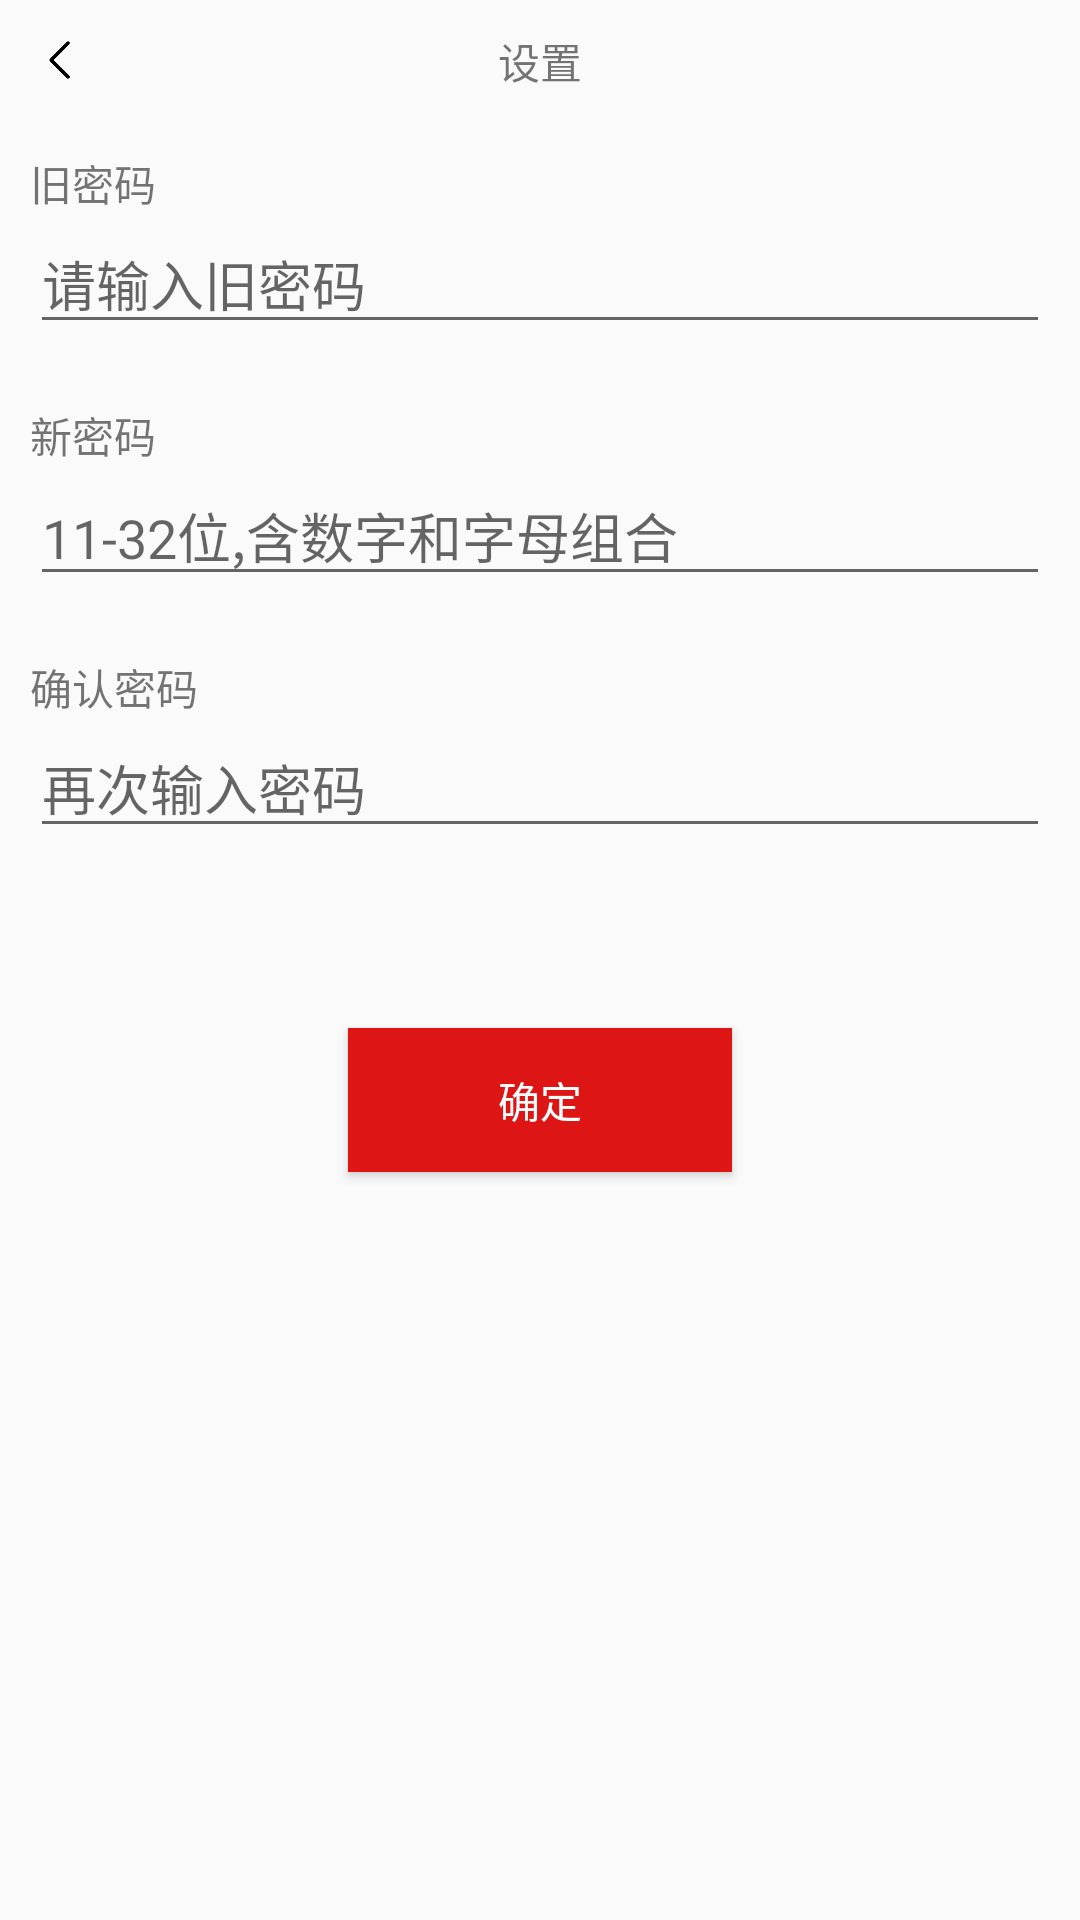

Where to tap for icons on this 1080×1920 app screen, as (x,y):
leftjiantou: (59,60)
